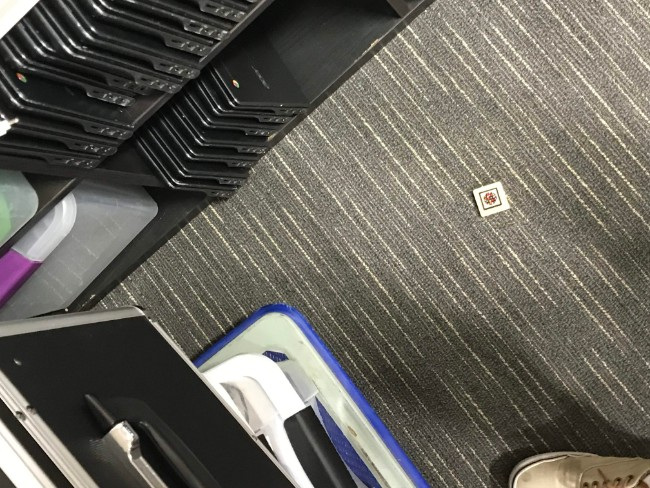cookie: (476, 185, 502, 212)
